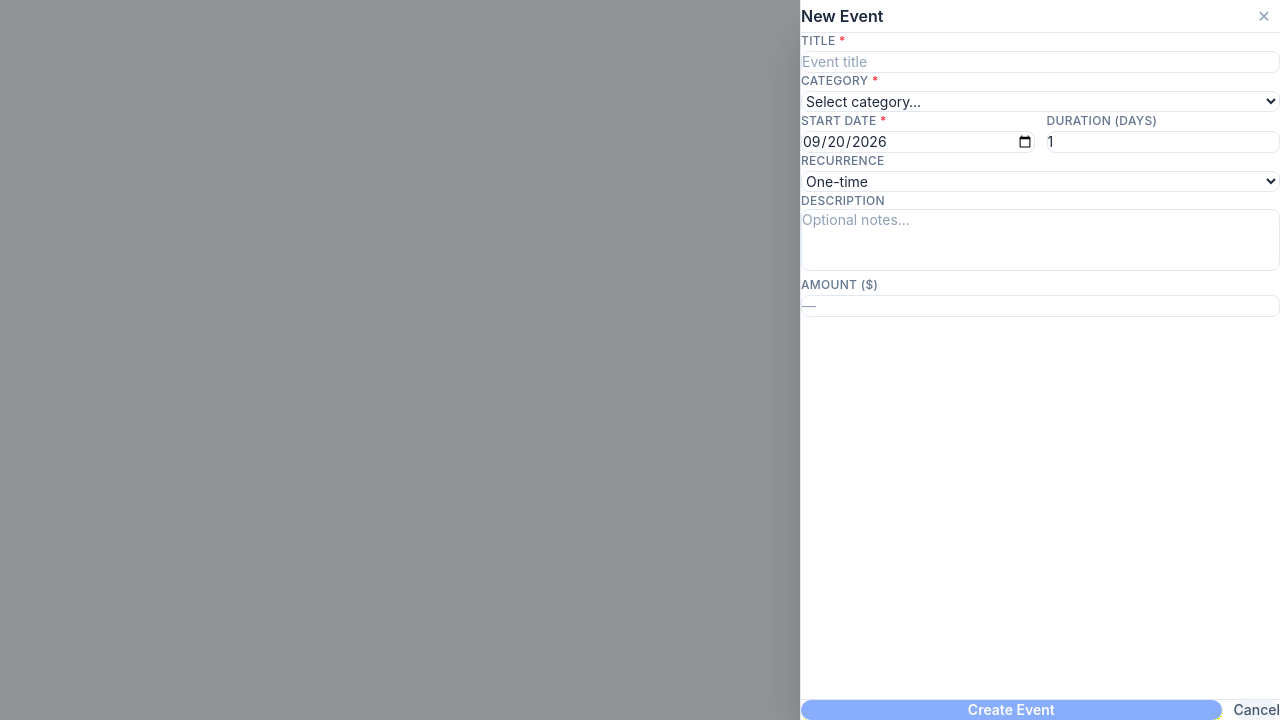
Test case: EventPanel — rendering › shows "Repeat Until" field when a recurrence is selected
The width and height of the screenshot is (1280, 720).
Select "Weekly" in the dropdown below "Recurrence": {"x": 1040, "y": 182} [801,171,1279,192]
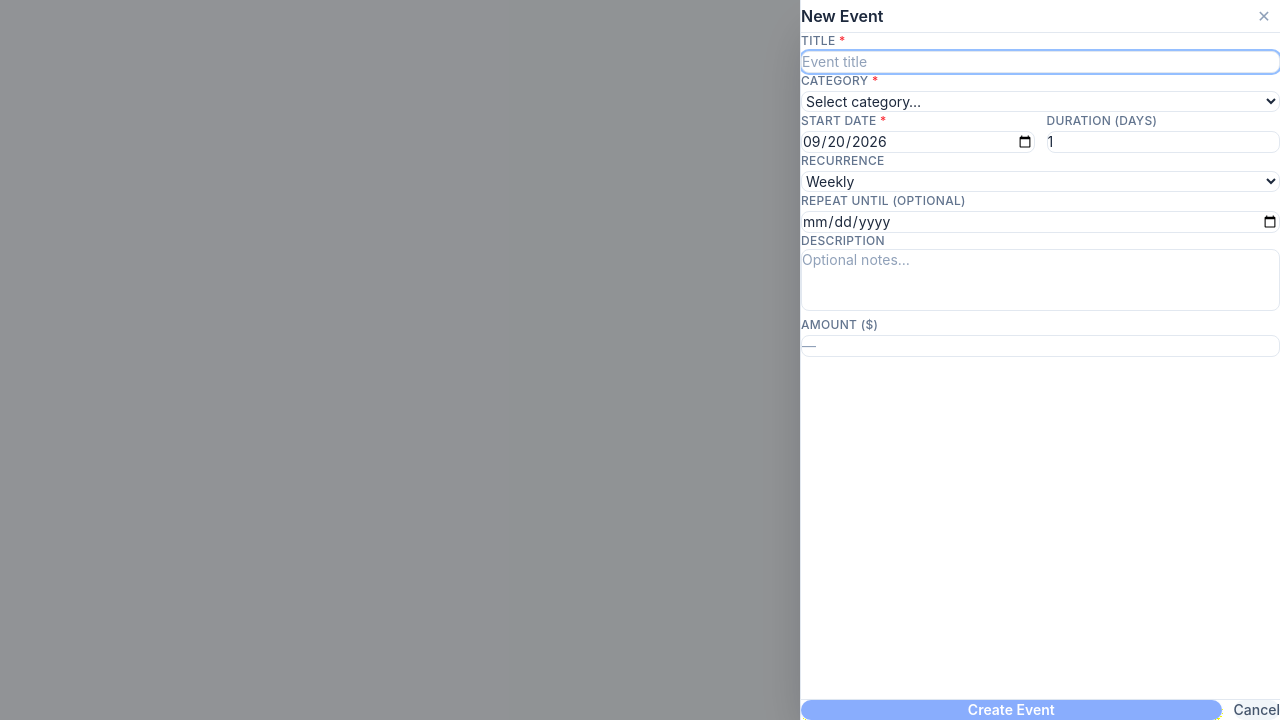
Expected: the text "Repeat Until (optional)" is shown, [801,193,966,208]
